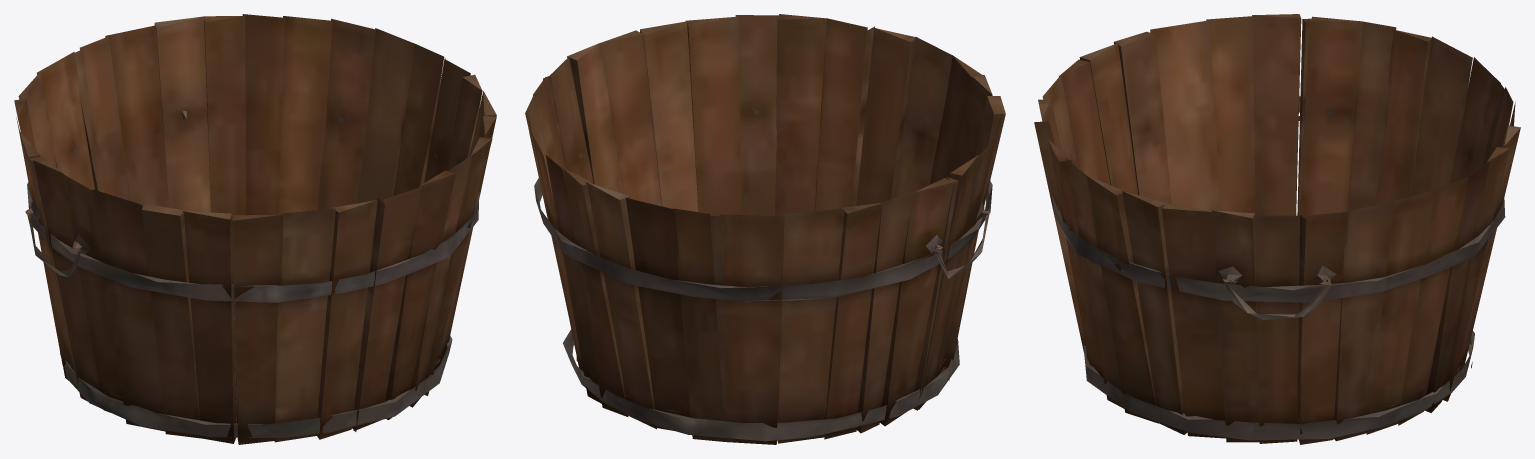
Rendered from pail.glb.
The picture shows the model from 3 angles, left to right: view 1: azimuth 30°, elevation 25°; view 2: azimuth 150°, elevation 25°; view 3: azimuth 270°, elevation 25°; orthographic projection.
Parts seen in each view (by area): view 1: pail; view 2: pail; view 3: pail.
Part boxes in pixels (x1,y1,x2,y2): pail: (14, 14, 496, 444); pail: (525, 14, 1005, 444); pail: (1034, 14, 1520, 444).
Size of the model in its own units: 0.6133 by 0.3532 by 0.6162.
1 material, 1 textured.
